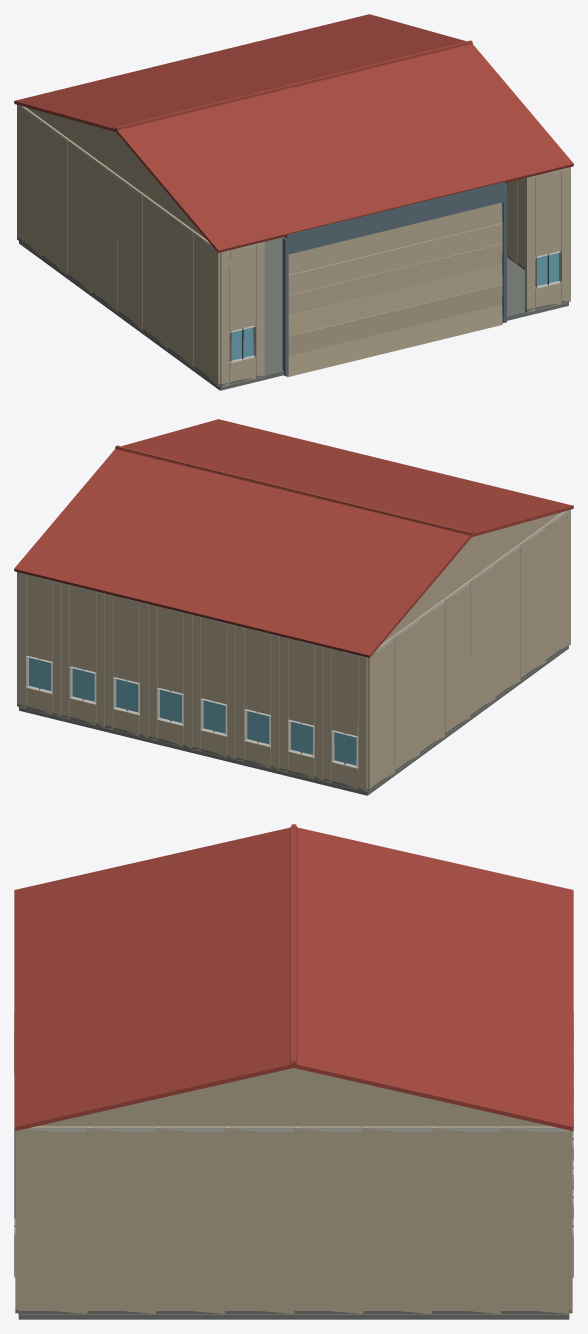
Rendered from architecture-hangar.lod2.glb.
3 views of the same model, one above another, from view 1: azimuth 30°, elevation 25°; view 2: azimuth 150°, elevation 25°; view 3: azimuth 270°, elevation 25° (orthographic). The views are drawn at different scales.
Parts seen in each view (by area): view 1: architecture-hangar__body, architecture-hangar__loading_door; view 2: architecture-hangar__body; view 3: architecture-hangar__body.
Boxes of the visible parts, bbox=[...] form: architecture-hangar__body: bbox=[14, 14, 573, 390]; architecture-hangar__loading_door: bbox=[286, 202, 502, 377]; architecture-hangar__body: bbox=[14, 419, 573, 795]; architecture-hangar__body: bbox=[14, 824, 573, 1319].
Bounding box in the file's own units: 16.33 × 8.43 × 16.25.
